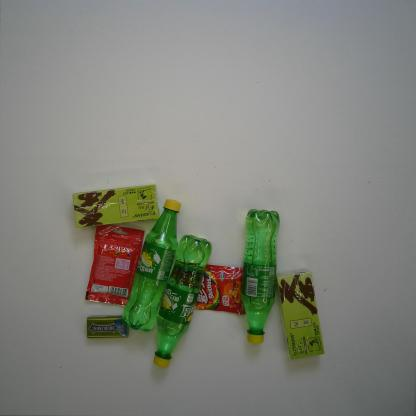Candy: (85, 224, 145, 308), (172, 262, 246, 316)
Drink: (120, 198, 182, 333), (152, 233, 212, 369), (240, 208, 281, 346)
Gum: (85, 314, 129, 340)
Instant Drink: (274, 267, 326, 362), (72, 183, 161, 229)
